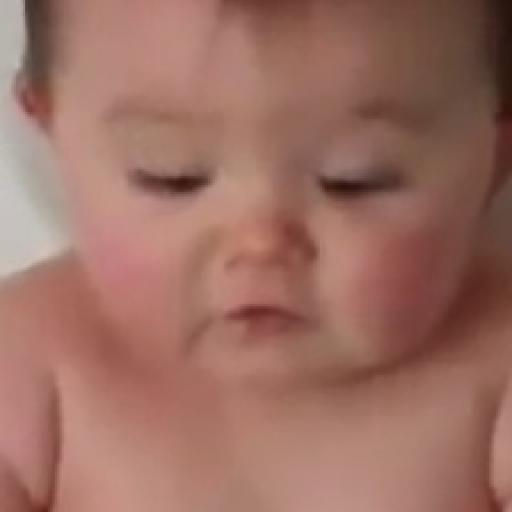Autism: (37, 6, 512, 392)
